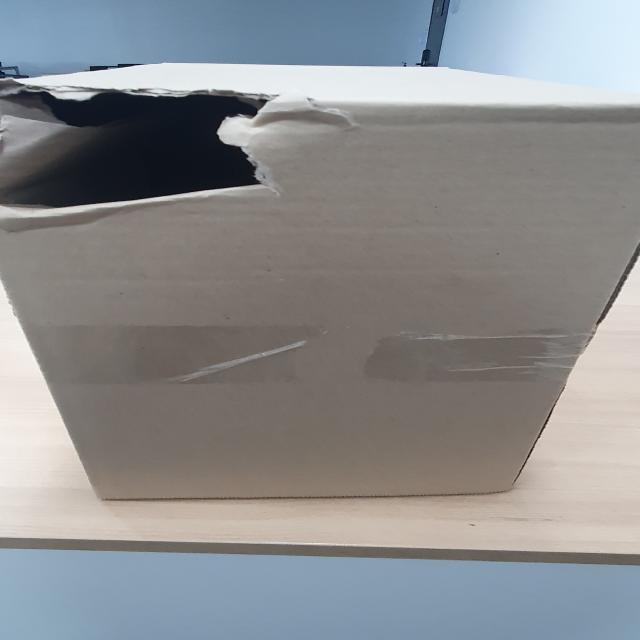hole: (3, 76, 287, 226)
